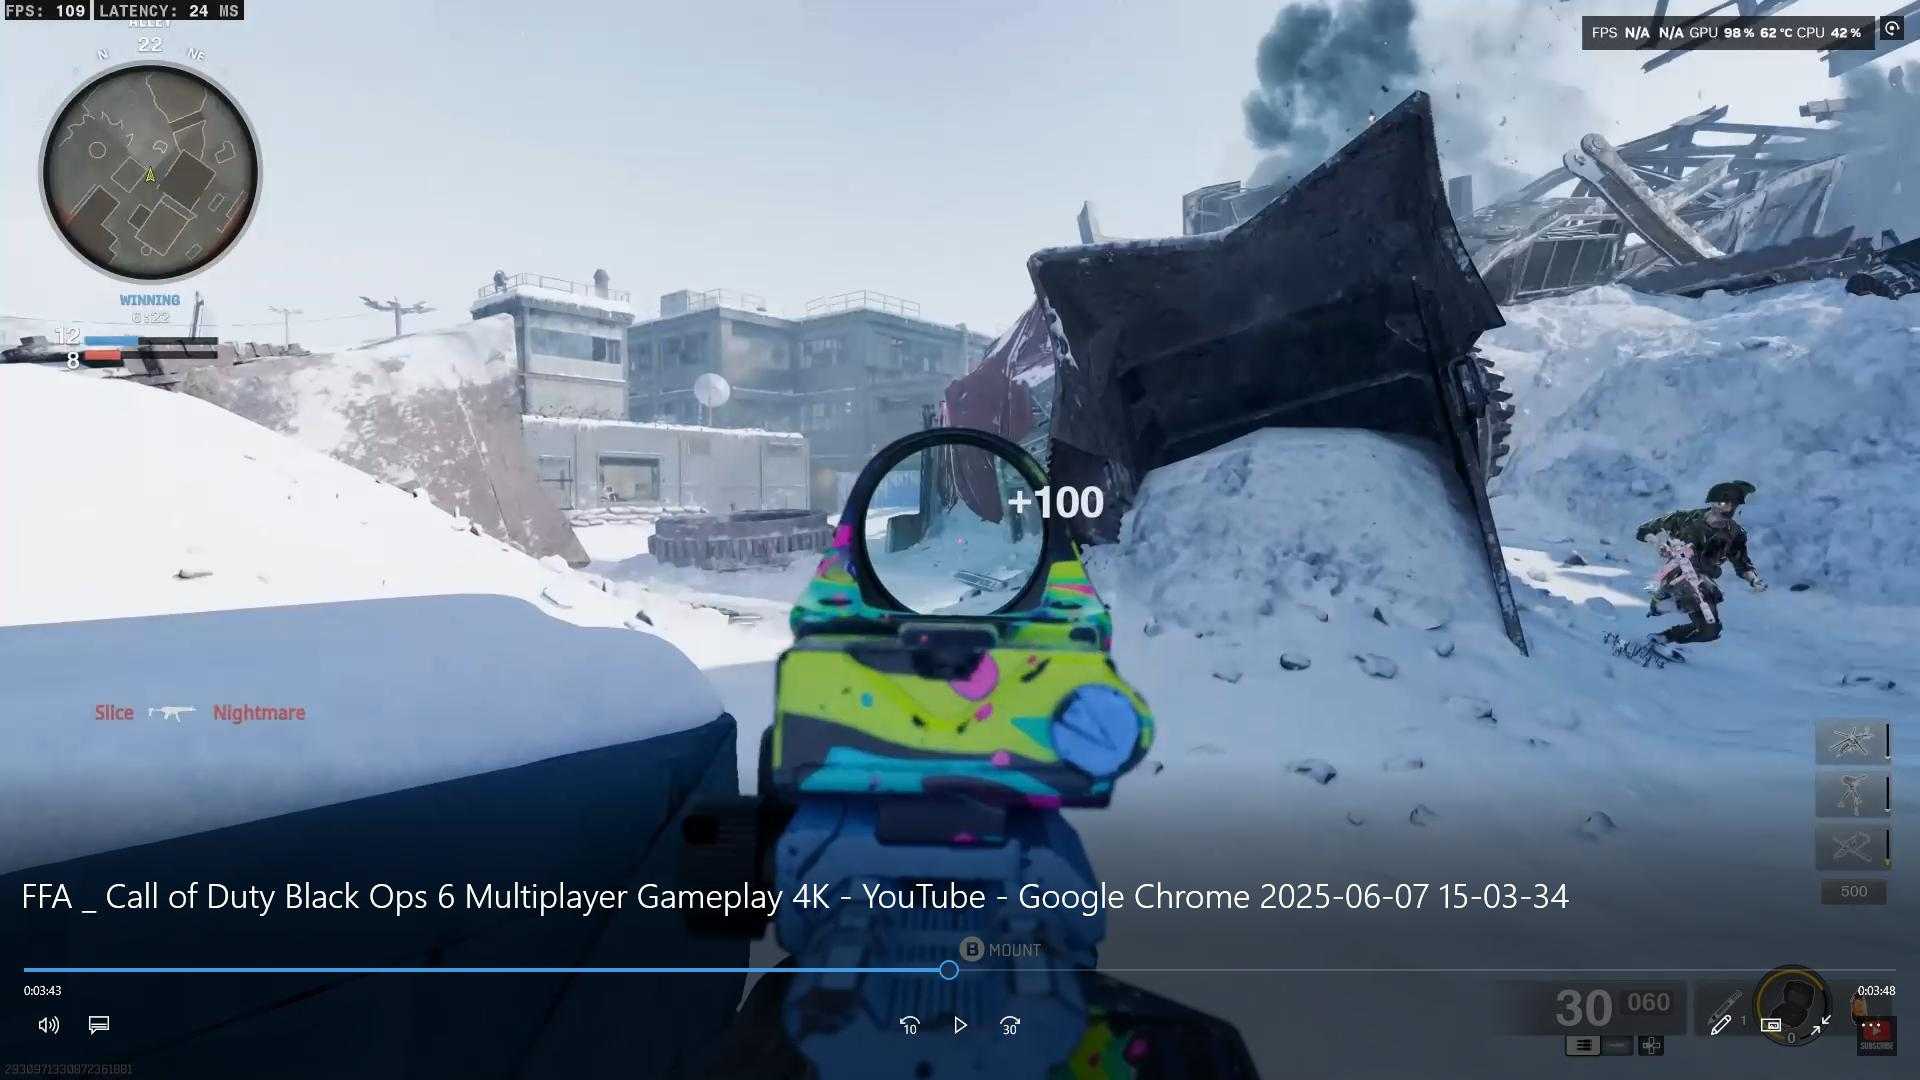Enemy: (1642, 459, 1763, 653)
